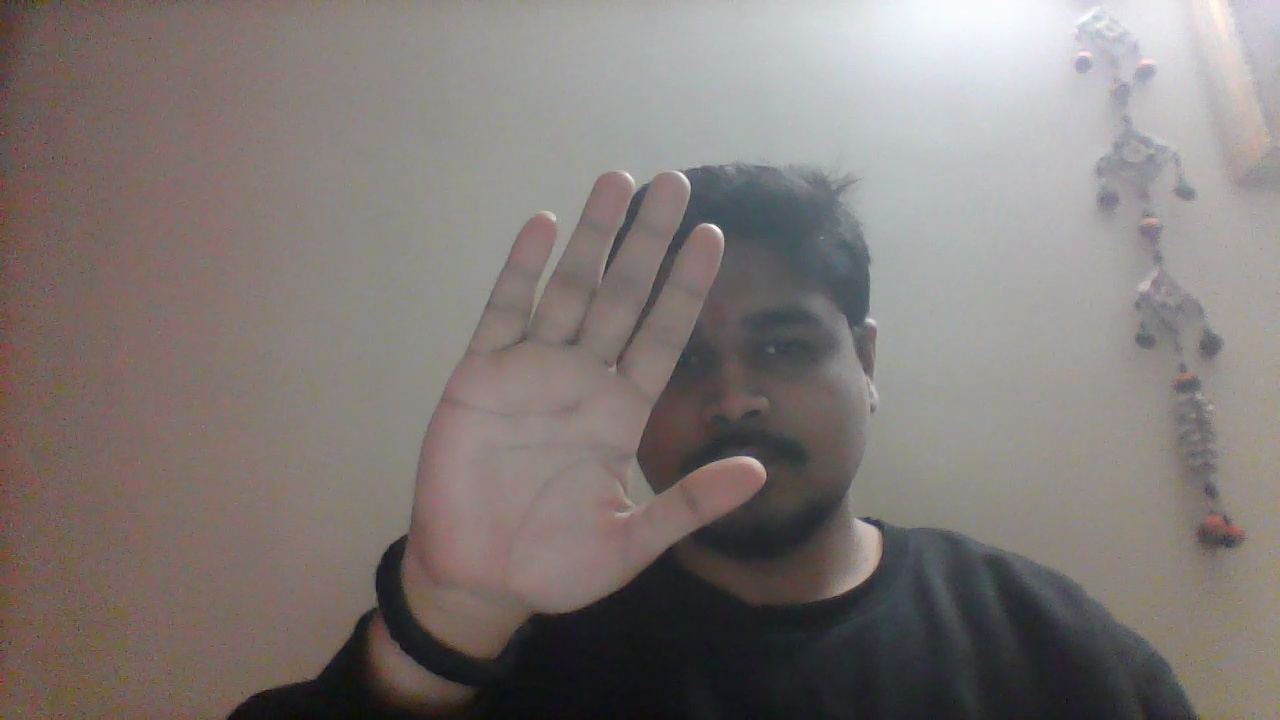Hello: (407, 168, 771, 613)
